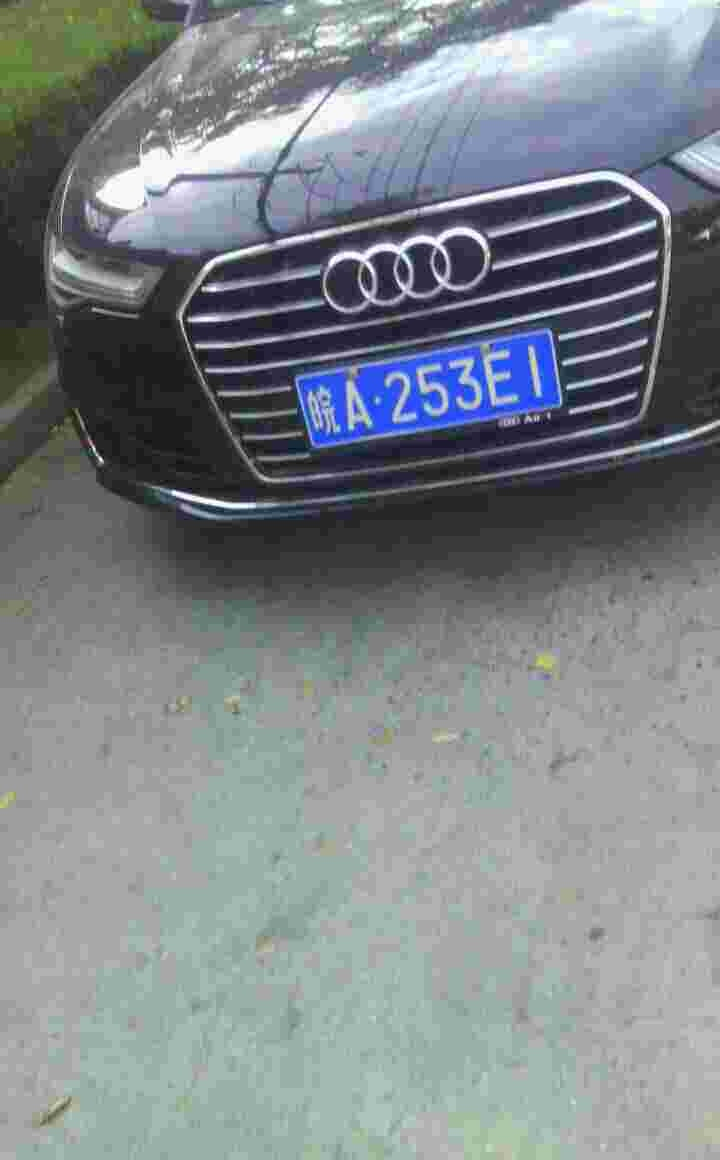license_plate: (289, 334, 561, 458)
